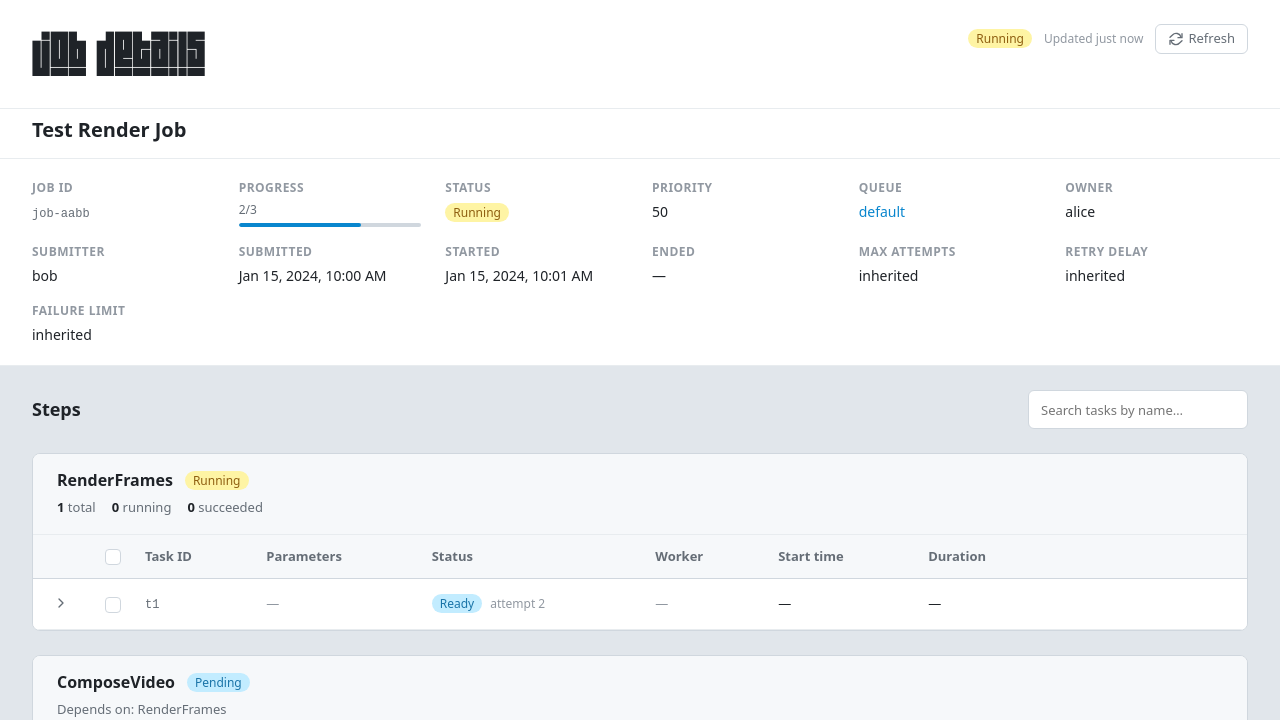
it: JobDetail › attempt timeline › expands a task row to show its attempt history with reasons
This screenshot has width=1280, height=720.
Click the button named "attempts for render[Frame=2]": (61, 603) [49,591,73,615]
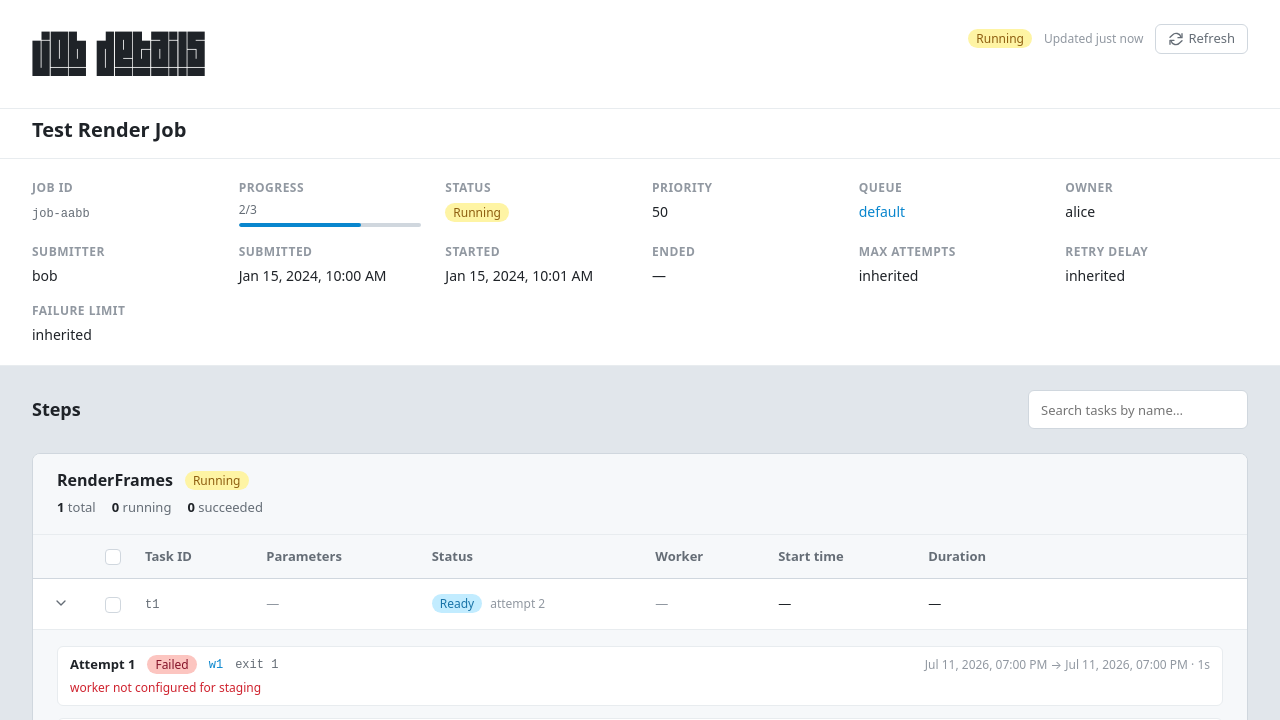
Now the text "worker not configured for staging" is shown, box [70,678,261,696]
Now the text "Attempt 1" is shown, box [70,655,135,674]
Now the text "exit 1" is shown, box [235,656,278,674]
